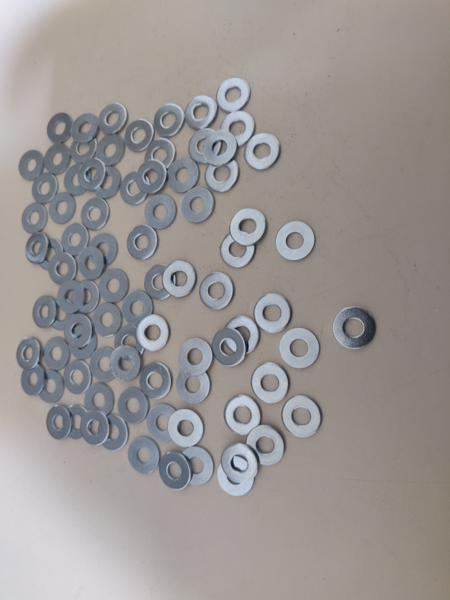circle: (333, 307, 376, 349), (275, 220, 317, 262), (280, 328, 322, 369), (246, 424, 286, 466), (283, 396, 322, 437), (251, 362, 289, 404), (223, 315, 261, 356), (217, 456, 255, 496), (224, 396, 262, 435), (176, 367, 213, 405), (255, 294, 291, 333), (179, 446, 215, 485), (200, 271, 235, 311), (230, 208, 267, 245), (220, 231, 257, 268), (245, 133, 281, 171), (168, 410, 204, 448), (162, 261, 198, 298), (222, 443, 258, 480), (178, 339, 214, 376), (136, 314, 171, 352), (212, 328, 246, 366), (158, 452, 192, 490), (147, 404, 181, 442), (139, 361, 173, 399), (128, 437, 162, 475), (203, 131, 238, 166), (217, 77, 251, 113), (188, 129, 222, 165), (205, 156, 238, 193), (144, 265, 178, 300), (182, 187, 215, 223), (115, 324, 148, 360), (98, 414, 131, 450), (185, 96, 219, 130), (122, 291, 154, 327), (99, 268, 131, 304), (62, 404, 92, 442), (221, 112, 255, 145), (118, 388, 149, 424), (81, 409, 111, 446), (69, 323, 99, 360), (145, 195, 177, 229), (168, 158, 200, 192), (120, 171, 152, 205), (154, 104, 185, 139), (128, 225, 158, 261), (125, 119, 155, 154), (92, 302, 122, 337), (90, 346, 119, 382), (146, 139, 177, 172), (98, 102, 129, 135), (111, 346, 141, 380), (89, 232, 119, 266), (71, 280, 100, 315), (64, 313, 93, 348), (85, 383, 114, 418), (78, 245, 106, 281), (77, 158, 107, 191), (60, 223, 90, 256), (137, 160, 166, 194), (50, 251, 79, 285), (37, 238, 65, 273), (64, 360, 92, 395), (96, 134, 126, 166), (58, 279, 85, 314), (71, 113, 100, 145), (69, 131, 97, 164), (49, 192, 77, 225), (43, 337, 71, 370), (48, 298, 76, 331), (81, 198, 109, 231), (93, 168, 122, 199), (47, 112, 74, 145), (18, 149, 45, 182), (38, 370, 65, 403), (64, 164, 91, 196), (16, 337, 42, 370), (47, 405, 72, 439), (21, 364, 46, 397), (32, 296, 57, 329), (45, 143, 71, 174), (32, 173, 58, 204), (22, 202, 48, 233), (26, 233, 50, 265)
